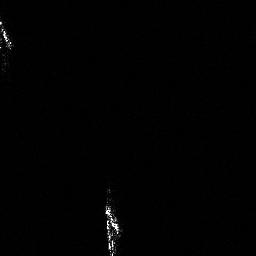ship: (102, 200, 126, 256), (1, 18, 15, 50)
